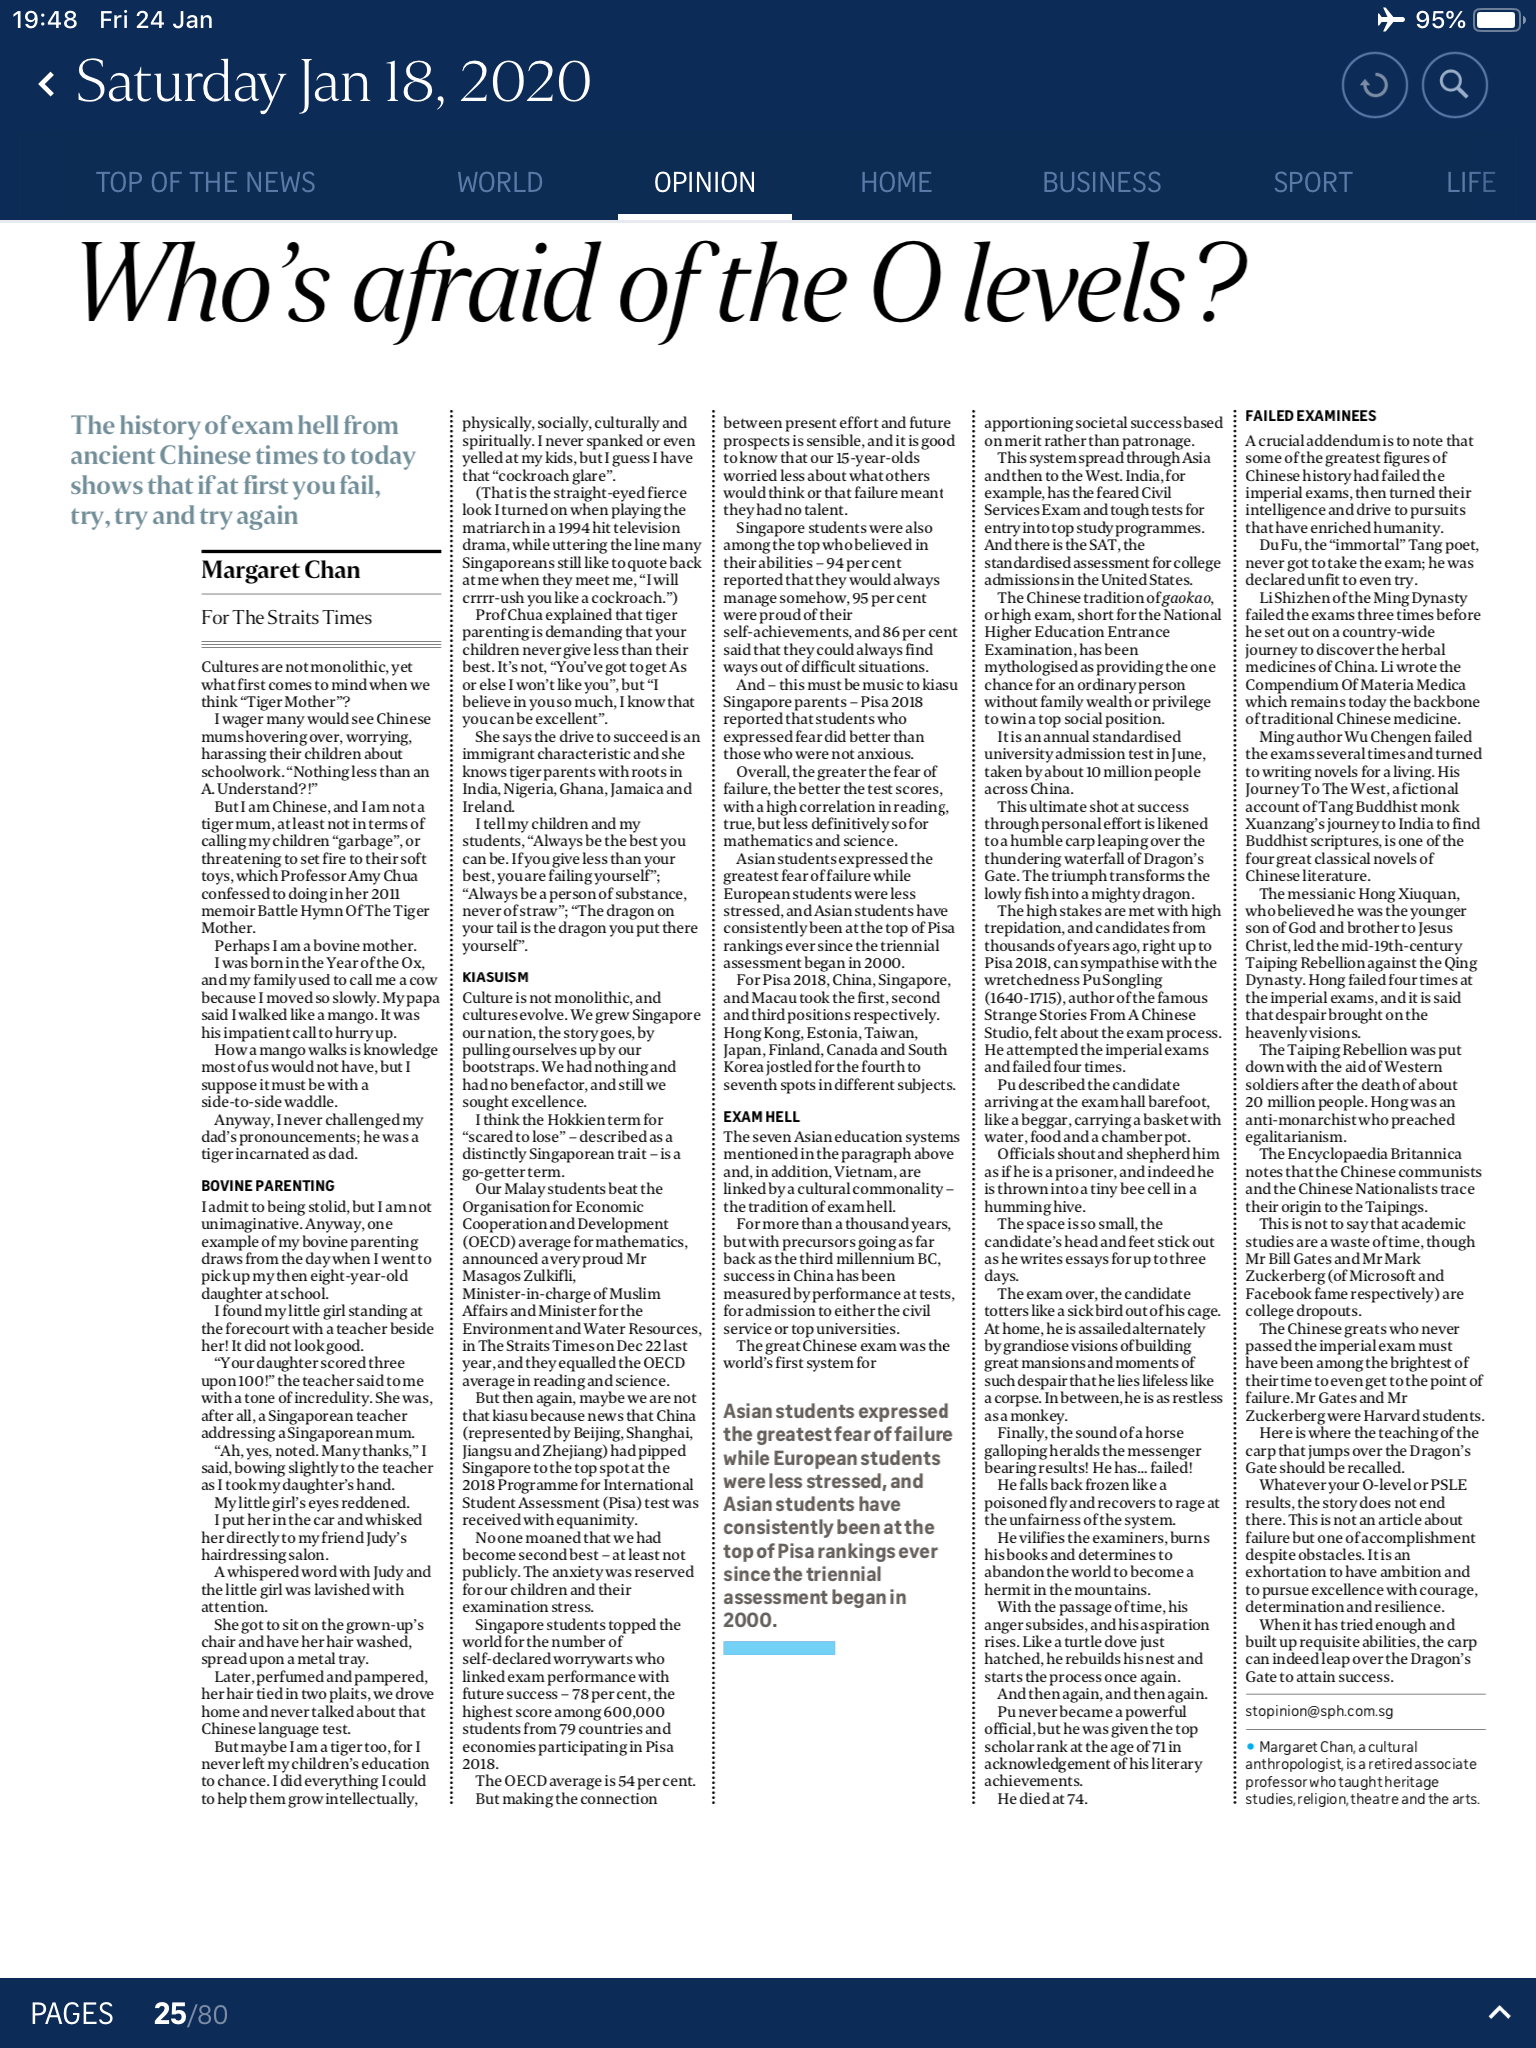Headline: (61, 218, 1270, 343)
